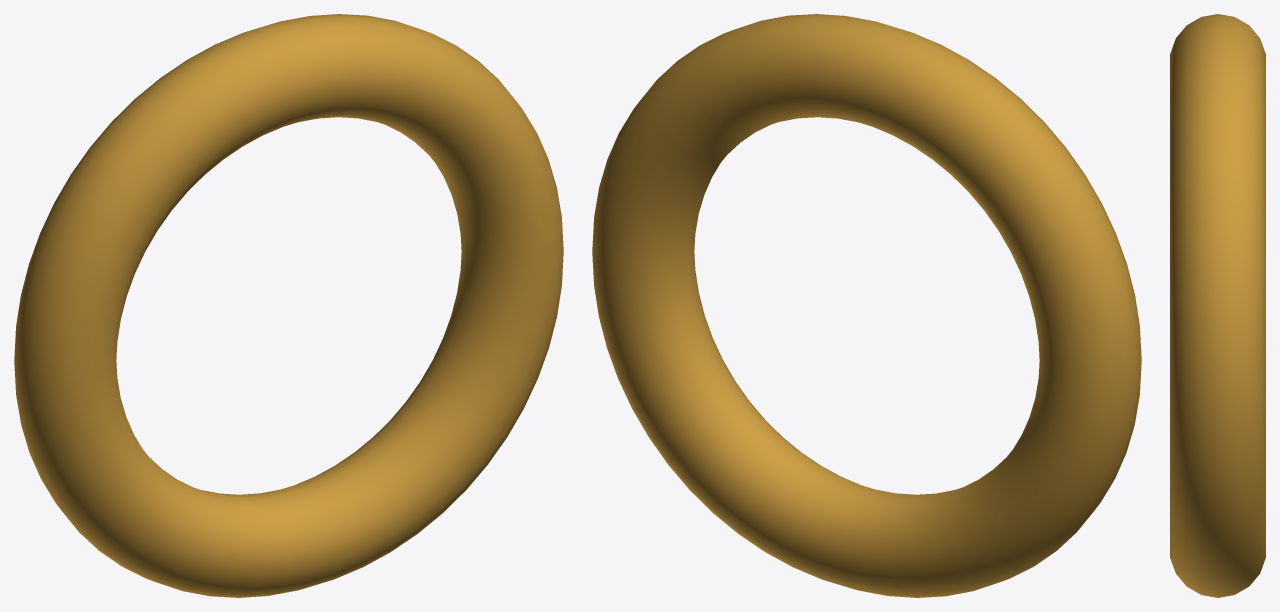
The model's file is ring.glb.
The picture shows the model from 3 angles, left to right: view 1: azimuth 30°, elevation 25°; view 2: azimuth 150°, elevation 25°; view 3: azimuth 270°, elevation 25°; orthographic projection. The views are drawn at different scales.
Parts seen in each view (by area): view 1: ring; view 2: ring; view 3: ring.
Boxes of the visible parts, box(x1,y1,x2,y2) form: ring: box(14, 14, 563, 597); ring: box(592, 14, 1141, 597); ring: box(1170, 14, 1265, 597).
Bounding box in the file's own units: 1.92 × 1.92 × 0.3151.
